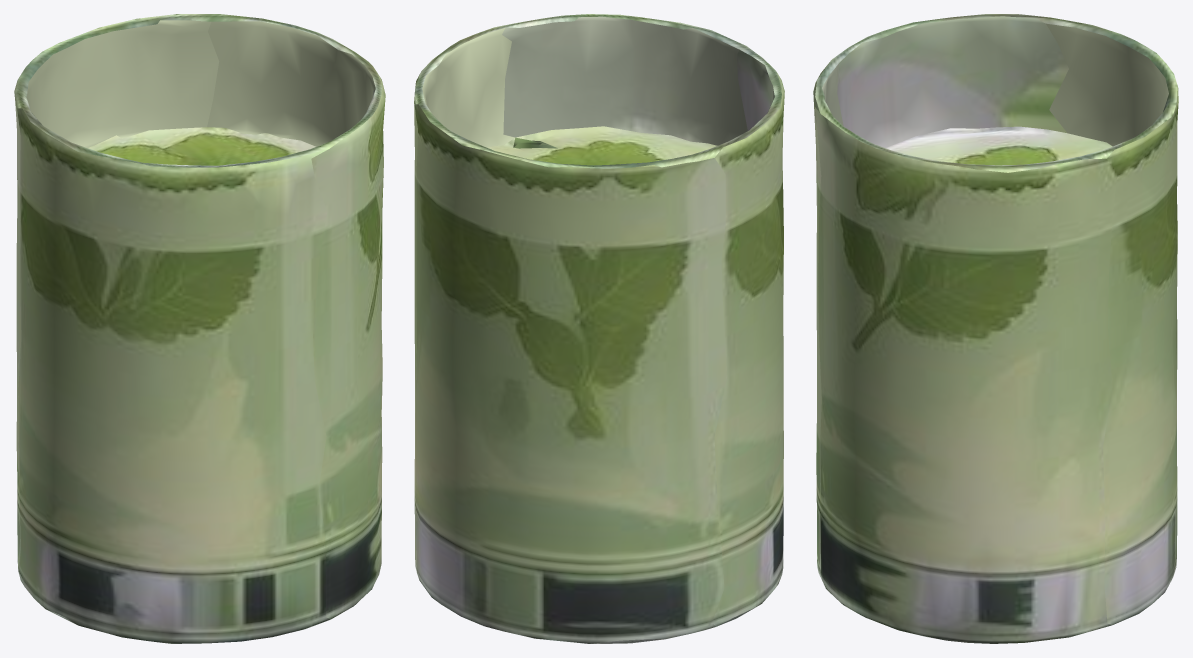
File: mint_tea.glb
3 views of the same model, side by side, from view 1: azimuth 30°, elevation 25°; view 2: azimuth 150°, elevation 25°; view 3: azimuth 270°, elevation 25° (orthographic).
Parts seen in each view (by area): view 1: item_mint_tea; view 2: item_mint_tea; view 3: item_mint_tea.
Part boxes in pixels (box(x1,y1,x2,y2)): item_mint_tea: box(14, 14, 385, 643); item_mint_tea: box(414, 14, 784, 643); item_mint_tea: box(813, 14, 1178, 643).
Size of the model in its own units: 0.703 by 1 by 0.6929.
1 material, 1 textured.
